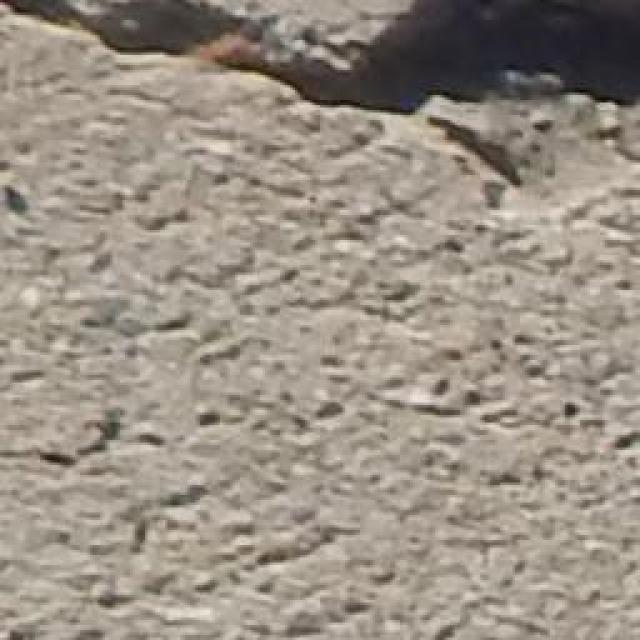concrete-crack: (0, 0, 639, 193)
